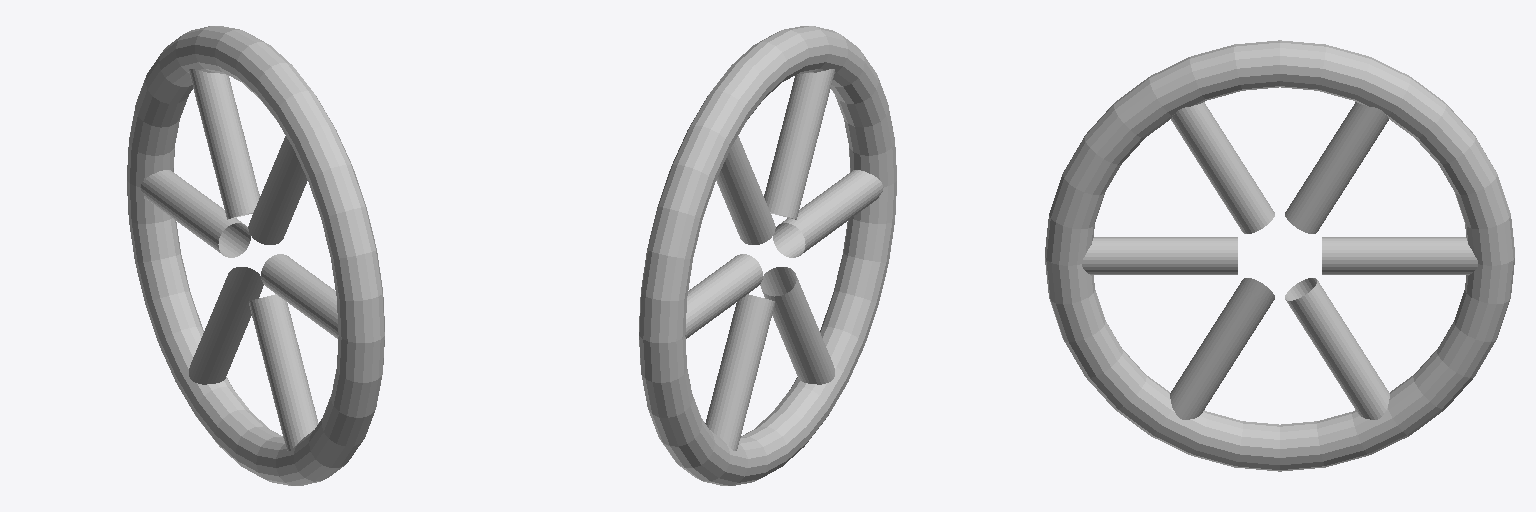
File: station_ring.obj
3 renders of one model, left to right at view 1: azimuth 30°, elevation 25°; view 2: azimuth 150°, elevation 25°; view 3: azimuth 270°, elevation 25°, orthographic.
Visible parts, largest first — view 1: Torus.001; view 2: Torus.001; view 3: Torus.001.
Boxes of the visible parts, x1,y1,x2,y2 form: Torus.001: [127, 26, 384, 485]; Torus.001: [639, 26, 896, 485]; Torus.001: [1045, 40, 1514, 471].
Bounding box in the file's own units: 1 × 10 × 10.